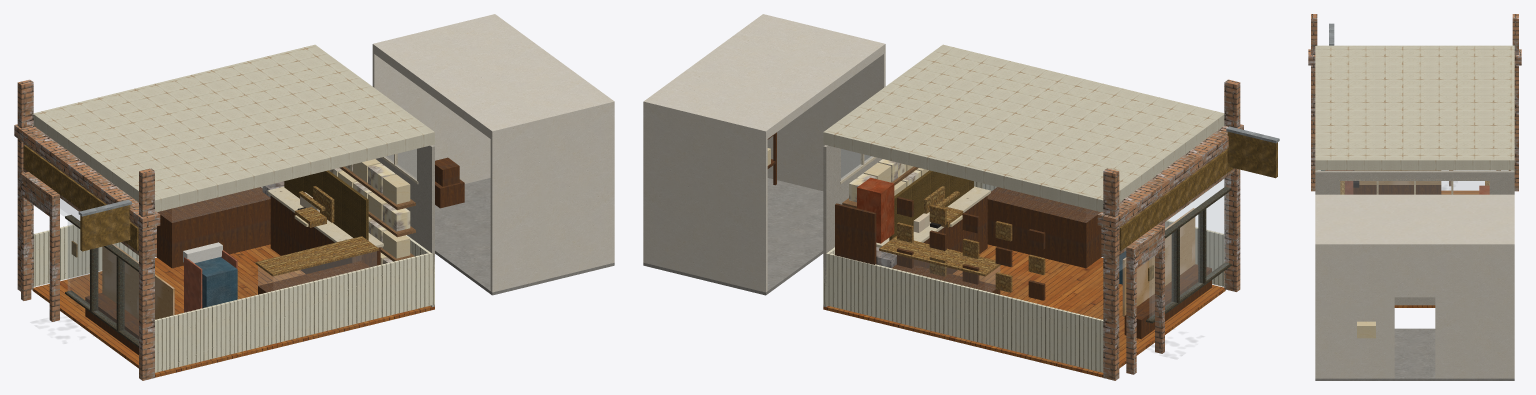
Rendered from shop_pawnbroker.gltf.
The picture shows the model from 3 angles, left to right: view 1: azimuth 30°, elevation 25°; view 2: azimuth 150°, elevation 25°; view 3: azimuth 270°, elevation 25°; orthographic projection. The views are drawn at different scales.
Parts seen in each view (by area): view 1: F01_OWN_SHOP_PAWNBROKER_retail_shop_pawnbroker_plaster-col, F01_OWN_SHOP_PAWNBROKER_retail_shop_pawnbroker_tin_ceiling-c, F01_OWN_SHOP_PAWNBROKER_retail_shop_pawnbroker_wainscot-col, F01_OWN_SHOP_PAWNBROKER_retail_shop_pawnbroker_wood_dark-col, F01_OWN_SHOP_PAWNBROKER_retail_shop_pawnbroker_common_brick-, F01_OWN_SHOP_PAWNBROKER_retail_shop_pawnbroker_glassish-col, F01_OWN_SHOP_PAWNBROKER_retail_shop_pawnbroker_floor_oak-col, F01_OWN_SHOP_PAWNBROKER_retail_shop_pawnbroker_concrete-col, F01_OWN_SHOP_PAWNBROKER_retail_shop_pawnbroker_brass_bright-, F01_OWN_SHOP_PAWNBROKER_retail_shop_pawnbroker_brass_dull-co, F01_OWN_SHOP_PAWNBROKER_retail_shop_pawnbroker_plaster_stain, F01_OWN_SHOP_PAWNBROKER_retail_shop_pawnbroker_brass_mesh-co (+9 smaller); view 2: F01_OWN_SHOP_PAWNBROKER_retail_shop_pawnbroker_plaster-col, F01_OWN_SHOP_PAWNBROKER_retail_shop_pawnbroker_tin_ceiling-c, F01_OWN_SHOP_PAWNBROKER_retail_shop_pawnbroker_wainscot-col, F01_OWN_SHOP_PAWNBROKER_retail_shop_pawnbroker_wood_dark-col, F01_OWN_SHOP_PAWNBROKER_retail_shop_pawnbroker_common_brick-, F01_OWN_SHOP_PAWNBROKER_retail_shop_pawnbroker_glassish-col, F01_OWN_SHOP_PAWNBROKER_retail_shop_pawnbroker_floor_oak-col, F01_OWN_SHOP_PAWNBROKER_retail_shop_pawnbroker_concrete-col, F01_OWN_SHOP_PAWNBROKER_retail_shop_pawnbroker_brass_bright-, F01_OWN_SHOP_PAWNBROKER_retail_shop_pawnbroker_brass_dull-co, F01_OWN_SHOP_PAWNBROKER_retail_shop_pawnbroker_bronze-col, F01_OWN_SHOP_PAWNBROKER_retail_shop_pawnbroker_plaster_stain (+6 smaller); view 3: F01_OWN_SHOP_PAWNBROKER_retail_shop_pawnbroker_plaster-col, F01_OWN_SHOP_PAWNBROKER_retail_shop_pawnbroker_tin_ceiling-c, F01_OWN_SHOP_PAWNBROKER_retail_shop_pawnbroker_plaster_stain, F01_OWN_SHOP_PAWNBROKER_retail_shop_pawnbroker_concrete-col, F01_OWN_SHOP_PAWNBROKER_retail_shop_pawnbroker_common_brick-, F01_OWN_SHOP_PAWNBROKER_retail_shop_pawnbroker_glassish-col, F01_OWN_SHOP_PAWNBROKER_retail_shop_pawnbroker_wood_dark-col, F01_OWN_SHOP_PAWNBROKER_retail_shop_pawnbroker_plywood-col, F01_OWN_SHOP_PAWNBROKER_retail_shop_pawnbroker_paper-col, F01_OWN_SHOP_PAWNBROKER_retail_shop_pawnbroker_floor_oak-col.
Part boxes in pixels (<box>): F01_OWN_SHOP_PAWNBROKER_retail_shop_pawnbroker_plaster-col: <box>372,14,614,292</box>; F01_OWN_SHOP_PAWNBROKER_retail_shop_pawnbroker_tin_ceiling-c: <box>33,44,434,211</box>; F01_OWN_SHOP_PAWNBROKER_retail_shop_pawnbroker_wainscot-col: <box>33,186,434,372</box>; F01_OWN_SHOP_PAWNBROKER_retail_shop_pawnbroker_wood_dark-col: <box>85,157,464,354</box>; F01_OWN_SHOP_PAWNBROKER_retail_shop_pawnbroker_common_brick-: <box>14,79,160,380</box>; F01_OWN_SHOP_PAWNBROKER_retail_shop_pawnbroker_glassish-col: <box>60,149,416,343</box>; F01_OWN_SHOP_PAWNBROKER_retail_shop_pawnbroker_floor_oak-col: <box>32,244,434,377</box>; F01_OWN_SHOP_PAWNBROKER_retail_shop_pawnbroker_concrete-col: <box>435,178,614,295</box>; F01_OWN_SHOP_PAWNBROKER_retail_shop_pawnbroker_brass_bright-: <box>23,145,138,257</box>; F01_OWN_SHOP_PAWNBROKER_retail_shop_pawnbroker_brass_dull-co: <box>255,186,379,276</box>; F01_OWN_SHOP_PAWNBROKER_retail_shop_pawnbroker_plaster_stain: <box>376,145,434,307</box>; F01_OWN_SHOP_PAWNBROKER_retail_shop_pawnbroker_brass_mesh-co: <box>284,170,368,240</box>; F01_OWN_SHOP_PAWNBROKER_retail_shop_pawnbroker_plaster-col: <box>643,14,885,292</box>; F01_OWN_SHOP_PAWNBROKER_retail_shop_pawnbroker_tin_ceiling-c: <box>823,44,1224,211</box>; F01_OWN_SHOP_PAWNBROKER_retail_shop_pawnbroker_wainscot-col: <box>823,181,1224,372</box>; F01_OWN_SHOP_PAWNBROKER_retail_shop_pawnbroker_wood_dark-col: <box>767,132,1211,339</box>; F01_OWN_SHOP_PAWNBROKER_retail_shop_pawnbroker_common_brick-: <box>1097,79,1243,380</box>; F01_OWN_SHOP_PAWNBROKER_retail_shop_pawnbroker_glassish-col: <box>841,149,1230,319</box>; F01_OWN_SHOP_PAWNBROKER_retail_shop_pawnbroker_floor_oak-col: <box>823,244,1225,377</box>; F01_OWN_SHOP_PAWNBROKER_retail_shop_pawnbroker_concrete-col: <box>643,178,823,295</box>; F01_OWN_SHOP_PAWNBROKER_retail_shop_pawnbroker_brass_bright-: <box>1119,131,1277,281</box>; F01_OWN_SHOP_PAWNBROKER_retail_shop_pawnbroker_brass_dull-co: <box>879,186,1045,292</box>; F01_OWN_SHOP_PAWNBROKER_retail_shop_pawnbroker_bronze-col: <box>1146,186,1231,323</box>; F01_OWN_SHOP_PAWNBROKER_retail_shop_pawnbroker_plaster_stain: <box>823,145,881,306</box>; F01_OWN_SHOP_PAWNBROKER_retail_shop_pawnbroker_plaster-col: <box>1315,194,1514,378</box>; F01_OWN_SHOP_PAWNBROKER_retail_shop_pawnbroker_tin_ceiling-c: <box>1315,45,1514,170</box>; F01_OWN_SHOP_PAWNBROKER_retail_shop_pawnbroker_plaster_stain: <box>1315,171,1514,305</box>; F01_OWN_SHOP_PAWNBROKER_retail_shop_pawnbroker_concrete-col: <box>1315,328,1514,380</box>; F01_OWN_SHOP_PAWNBROKER_retail_shop_pawnbroker_common_brick-: <box>1308,14,1521,191</box>; F01_OWN_SHOP_PAWNBROKER_retail_shop_pawnbroker_glassish-col: <box>1340,181,1489,194</box>; F01_OWN_SHOP_PAWNBROKER_retail_shop_pawnbroker_wood_dark-col: <box>1353,170,1510,194</box>; F01_OWN_SHOP_PAWNBROKER_retail_shop_pawnbroker_plywood-col: <box>1354,170,1441,184</box>; F01_OWN_SHOP_PAWNBROKER_retail_shop_pawnbroker_paper-col: <box>1357,321,1375,338</box>; F01_OWN_SHOP_PAWNBROKER_retail_shop_pawnbroker_floor_oak-col: <box>1394,190,1479,307</box>.
Size of what is drawn, in the model's own units: 11.38 by 4.25 by 4.72.
32 materials, 30 textured.
